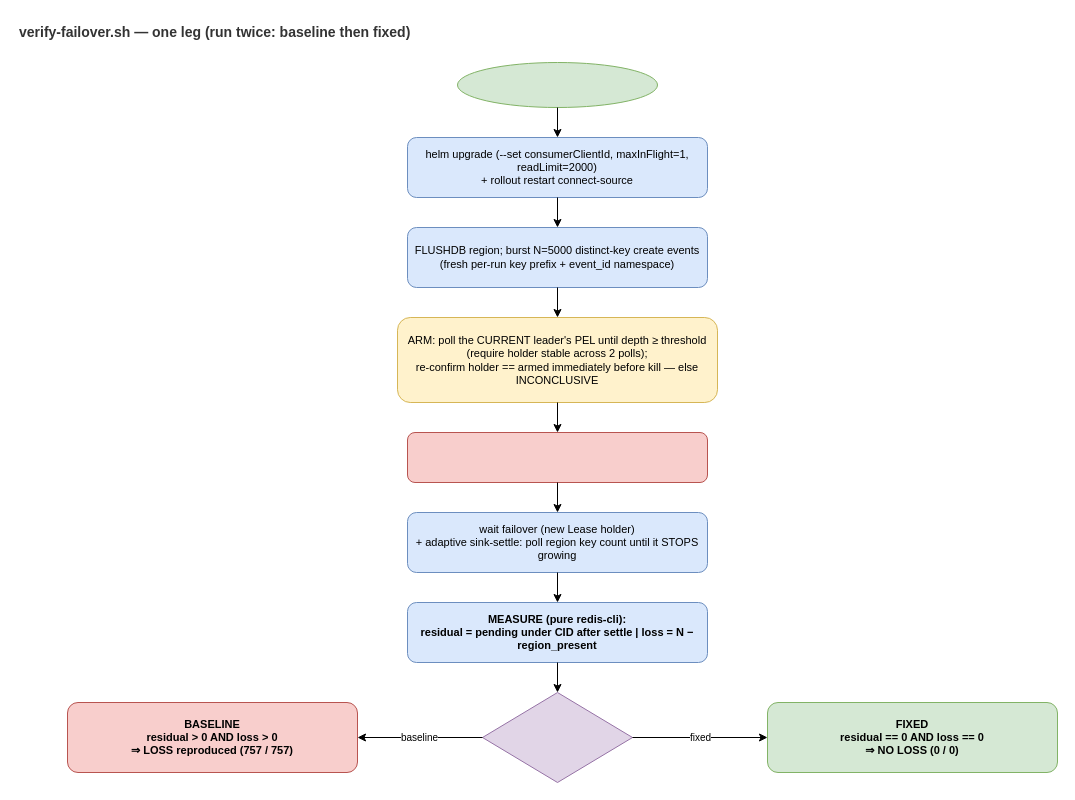
Image size: 1075x800. Some labels were removed from this diagram. Here are the shapes that lost their labels. From the top down, the box of each, then its label:
(456, 62, 658, 108): start
(406, 432, 708, 482): SIGKILL the leader (kubectl delete pod --grace-period=0 --force)
(482, 692, 632, 782): assert (per leg)
